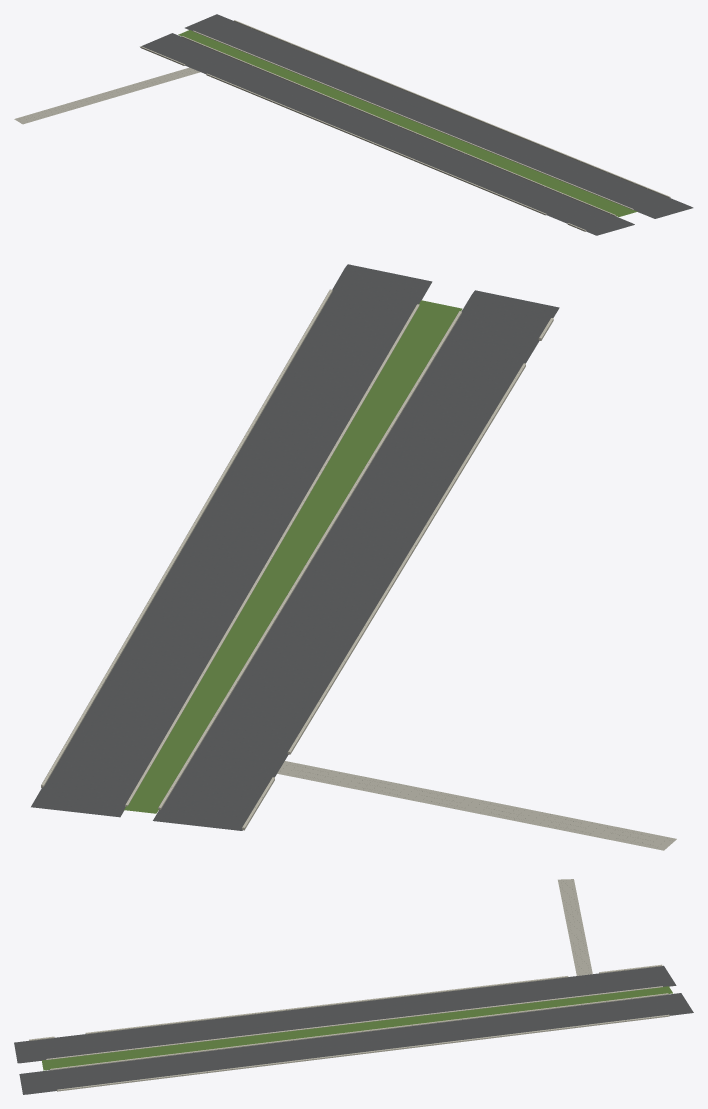
File: SEU_ROAD_STRUCTURAL_CANDIDATE_v16.glb
3 renders of one model, top to bottom at view 1: azimuth 30°, elevation 25°; view 2: azimuth 150°, elevation 25°; view 3: azimuth 270°, elevation 25°, orthographic. The views are drawn at different scales.
Visible parts, largest first — view 1: SEU_ROAD_V16_GROUND_630100637, SEU_ROAD_V16_GROUND_630686683, SEU_ROAD_V16_RAISED_MEDIAN, SEU_ROAD_V16_RAISED_CURBS, SEU_ROAD_V16_GROUND_FOOT_630957182; view 2: SEU_ROAD_V16_GROUND_630100637, SEU_ROAD_V16_GROUND_630686683, SEU_ROAD_V16_RAISED_MEDIAN, SEU_ROAD_V16_RAISED_CURBS, SEU_ROAD_V16_GROUND_FOOT_630957182; view 3: SEU_ROAD_V16_GROUND_630100637, SEU_ROAD_V16_GROUND_630686683, SEU_ROAD_V16_RAISED_CURBS, SEU_ROAD_V16_RAISED_MEDIAN, SEU_ROAD_V16_GROUND_FOOT_630957182.
Part boxes in pixels (x1,y1,x2,y2): SEU_ROAD_V16_GROUND_630100637: [185, 14, 693, 218]; SEU_ROAD_V16_GROUND_630686683: [141, 33, 634, 235]; SEU_ROAD_V16_RAISED_MEDIAN: [178, 30, 637, 216]; SEU_ROAD_V16_RAISED_CURBS: [140, 20, 670, 231]; SEU_ROAD_V16_GROUND_FOOT_630957182: [14, 67, 200, 124]; SEU_ROAD_V16_GROUND_630100637: [31, 264, 432, 817]; SEU_ROAD_V16_GROUND_630686683: [153, 290, 559, 830]; SEU_ROAD_V16_RAISED_MEDIAN: [124, 300, 462, 813]; SEU_ROAD_V16_RAISED_CURBS: [41, 289, 553, 830]; SEU_ROAD_V16_GROUND_FOOT_630957182: [277, 761, 676, 850]; SEU_ROAD_V16_GROUND_630100637: [19, 993, 693, 1094]; SEU_ROAD_V16_GROUND_630686683: [14, 965, 676, 1063]; SEU_ROAD_V16_RAISED_CURBS: [29, 964, 669, 1091]; SEU_ROAD_V16_RAISED_MEDIAN: [41, 986, 672, 1070]; SEU_ROAD_V16_GROUND_FOOT_630957182: [558, 879, 592, 975].
Bounding box in the file's own units: 62.51 × 0.194 × 83.23.
5 materials, 1 textured.
